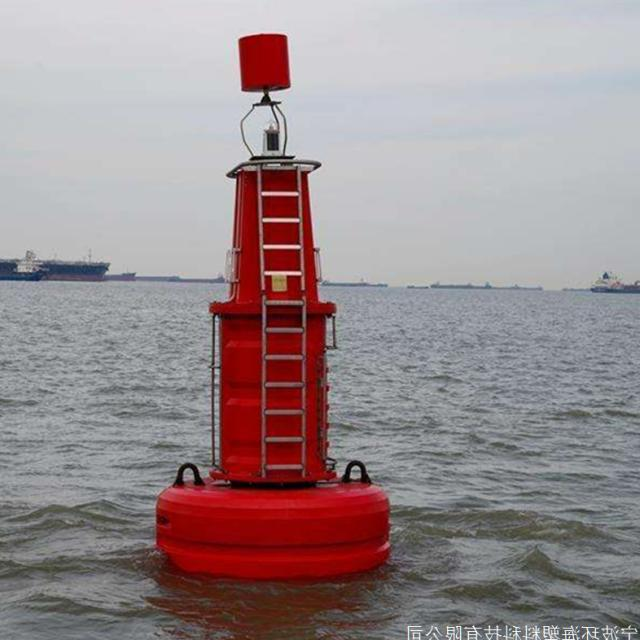buoy: (152, 21, 396, 576)
